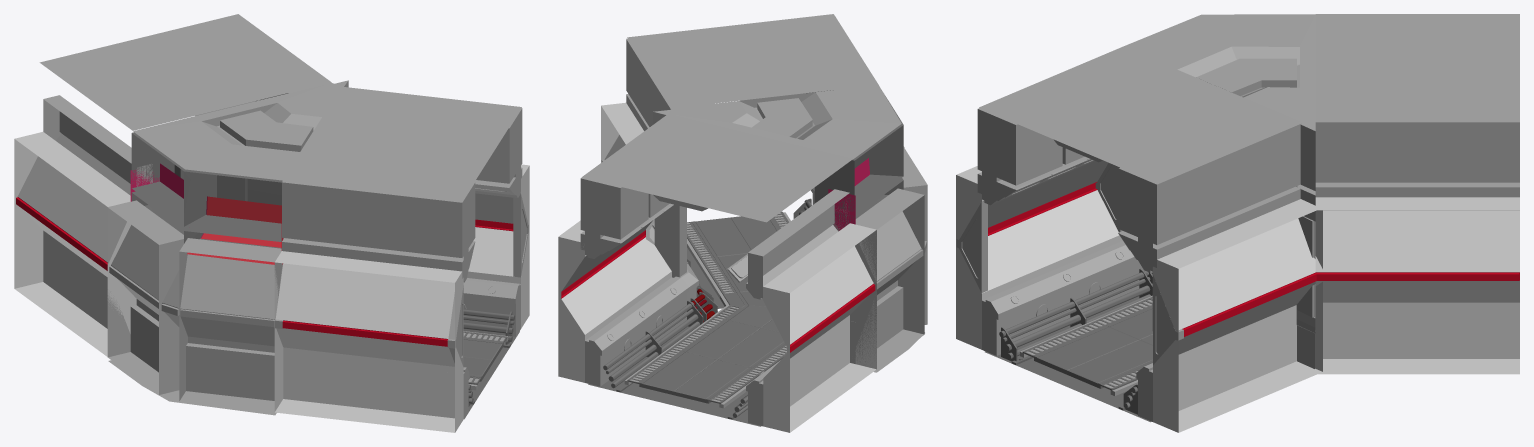
The model's file is Coridoor_chunk_1_45_degrees_MayaRemodel_NoUVs.fbx.
The picture shows the model from 3 angles, left to right: view 1: azimuth 30°, elevation 25°; view 2: azimuth 150°, elevation 25°; view 3: azimuth 270°, elevation 25°; orthographic projection. The views are drawn at different scales.
Visible parts, largest first — view 1: Coridoor_chunk_1_MayaRemodel_NoUVs1:polySurface102, polySurface35, Coridoor_chunk_1_MayaRemodel_NoUVs2:Roof, Coridoor_chunk_1_MayaRemodel_NoUVs2:polySurface102, Roof, Coridoor_chunk_1_MayaRemodel_NoUVs1:polySurface10, polySurface30, polySurface74, Coridoor_chunk_1_MayaRemodel_NoUVs2:polySurface89, polySurface29, polySurface48, Coridoor_chunk_1_MayaRemodel_NoUVs1:polySurface74 (+15 smaller); view 2: Coridoor_chunk_1_MayaRemodel_NoUVs2:polySurface102, Coridoor_chunk_1_MayaRemodel_NoUVs2:Roof, Roof, polySurface35, Coridoor_chunk_1_MayaRemodel_NoUVs2:polySurface74, polySurface30, Coridoor_chunk_1_MayaRemodel_NoUVs2:polySurface75, Coridoor_chunk_1_MayaRemodel_NoUVs2:polySurface89, Coridoor_chunk_1_MayaRemodel_NoUVs2:polySurface52, polySurface48, Coridoor_chunk_1_MayaRemodel_NoUVs1:Roof, polySurface76 (+27 smaller); view 3: Coridoor_chunk_1_MayaRemodel_NoUVs2:polySurface74, polySurface102, Coridoor_chunk_1_MayaRemodel_NoUVs2:Roof, Roof, polySurface74, Coridoor_chunk_1_MayaRemodel_NoUVs2:polySurface52, polySurface30, Coridoor_chunk_1_MayaRemodel_NoUVs1:polySurface52, polySurface75, Coridoor_chunk_1_MayaRemodel_NoUVs1:Roof, polySurface76 (×2), Coridoor_chunk_1_MayaRemodel_NoUVs2:polySurface51 (+16 smaller).
Boxes of the visible parts, bbox=[...] form: Coridoor_chunk_1_MayaRemodel_NoUVs1:polySurface102: bbox=[275, 252, 454, 418]; polySurface35: bbox=[107, 200, 282, 412]; Coridoor_chunk_1_MayaRemodel_NoUVs2:Roof: bbox=[39, 14, 331, 130]; Coridoor_chunk_1_MayaRemodel_NoUVs2:polySurface102: bbox=[14, 132, 136, 356]; Roof: bbox=[282, 87, 519, 200]; Coridoor_chunk_1_MayaRemodel_NoUVs1:polySurface10: bbox=[282, 181, 475, 278]; polySurface30: bbox=[133, 83, 341, 180]; polySurface74: bbox=[274, 251, 463, 432]; Coridoor_chunk_1_MayaRemodel_NoUVs2:polySurface89: bbox=[43, 95, 152, 195]; polySurface29: bbox=[186, 343, 274, 400]; polySurface48: bbox=[131, 132, 216, 226]; Coridoor_chunk_1_MayaRemodel_NoUVs1:polySurface74: bbox=[467, 192, 520, 283]; Coridoor_chunk_1_MayaRemodel_NoUVs2:polySurface102: bbox=[763, 223, 876, 432]; Coridoor_chunk_1_MayaRemodel_NoUVs2:Roof: bbox=[582, 113, 853, 222]; Roof: bbox=[627, 14, 877, 105]; polySurface35: bbox=[850, 148, 927, 369]; Coridoor_chunk_1_MayaRemodel_NoUVs2:polySurface74: bbox=[558, 220, 671, 382]; polySurface30: bbox=[669, 85, 901, 158]; Coridoor_chunk_1_MayaRemodel_NoUVs2:polySurface75: bbox=[585, 276, 688, 386]; Coridoor_chunk_1_MayaRemodel_NoUVs2:polySurface89: bbox=[746, 189, 849, 299]; Coridoor_chunk_1_MayaRemodel_NoUVs2:polySurface52: bbox=[580, 177, 669, 239]; polySurface48: bbox=[814, 124, 903, 211]; Coridoor_chunk_1_MayaRemodel_NoUVs1:Roof: bbox=[627, 17, 878, 108]; polySurface76: bbox=[653, 109, 698, 301]; Coridoor_chunk_1_MayaRemodel_NoUVs2:polySurface74: bbox=[1315, 197, 1519, 374]; polySurface102: bbox=[1153, 199, 1322, 432]; Coridoor_chunk_1_MayaRemodel_NoUVs2:Roof: bbox=[1315, 14, 1519, 119]; Roof: bbox=[979, 47, 1290, 182]; polySurface74: bbox=[956, 160, 1122, 349]; Coridoor_chunk_1_MayaRemodel_NoUVs2:polySurface52: bbox=[1315, 120, 1519, 182]; polySurface30: bbox=[1123, 14, 1315, 121]; Coridoor_chunk_1_MayaRemodel_NoUVs1:polySurface52: bbox=[1118, 122, 1300, 244]; polySurface75: bbox=[982, 241, 1140, 355]; Coridoor_chunk_1_MayaRemodel_NoUVs1:Roof: bbox=[979, 47, 1299, 182]; polySurface76 (×2): bbox=[1002, 120, 1315, 368]; Coridoor_chunk_1_MayaRemodel_NoUVs2:polySurface51: bbox=[1315, 182, 1519, 197].
Size of the model in its own units: 1223 by 729 by 1521.
